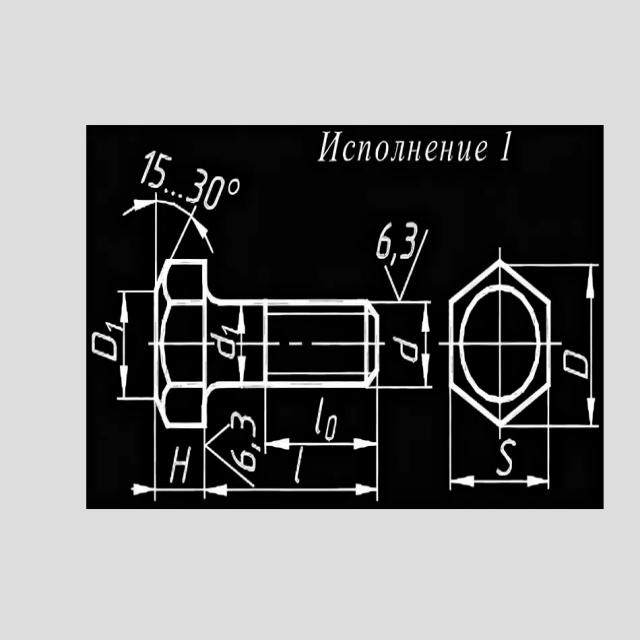marking_line: (551, 263, 601, 430), (261, 388, 382, 456), (204, 461, 379, 506), (448, 429, 552, 491), (121, 200, 219, 259), (130, 426, 211, 496), (114, 284, 152, 416), (380, 300, 434, 390), (236, 305, 248, 381)
numeric: (91, 319, 122, 367), (492, 438, 517, 479), (563, 348, 590, 381), (392, 335, 421, 364), (169, 445, 190, 484), (185, 165, 207, 202), (150, 153, 172, 189), (203, 176, 227, 209), (231, 410, 258, 438), (208, 334, 236, 360), (400, 221, 418, 261), (375, 221, 392, 261), (229, 449, 257, 473), (140, 151, 154, 187), (314, 395, 325, 436), (294, 446, 304, 485), (324, 414, 337, 441), (221, 324, 237, 336)
special_symbol: (207, 420, 257, 488), (383, 265, 420, 301), (228, 178, 240, 196)
